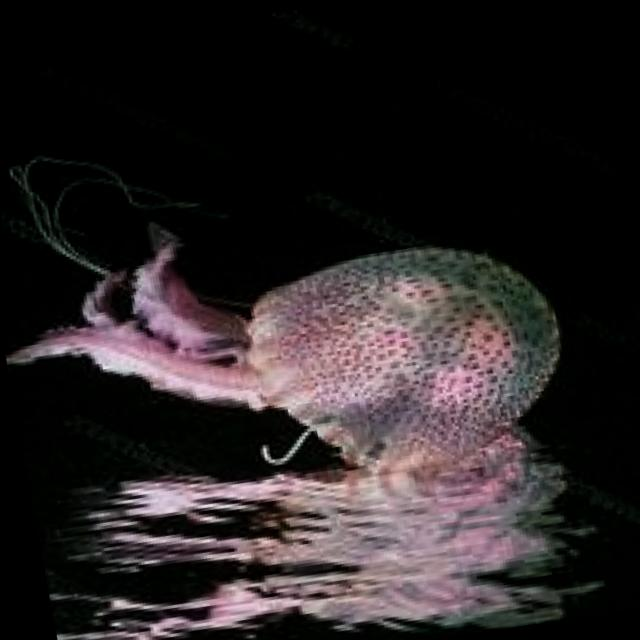Jellyfish: (1, 144, 577, 549)
